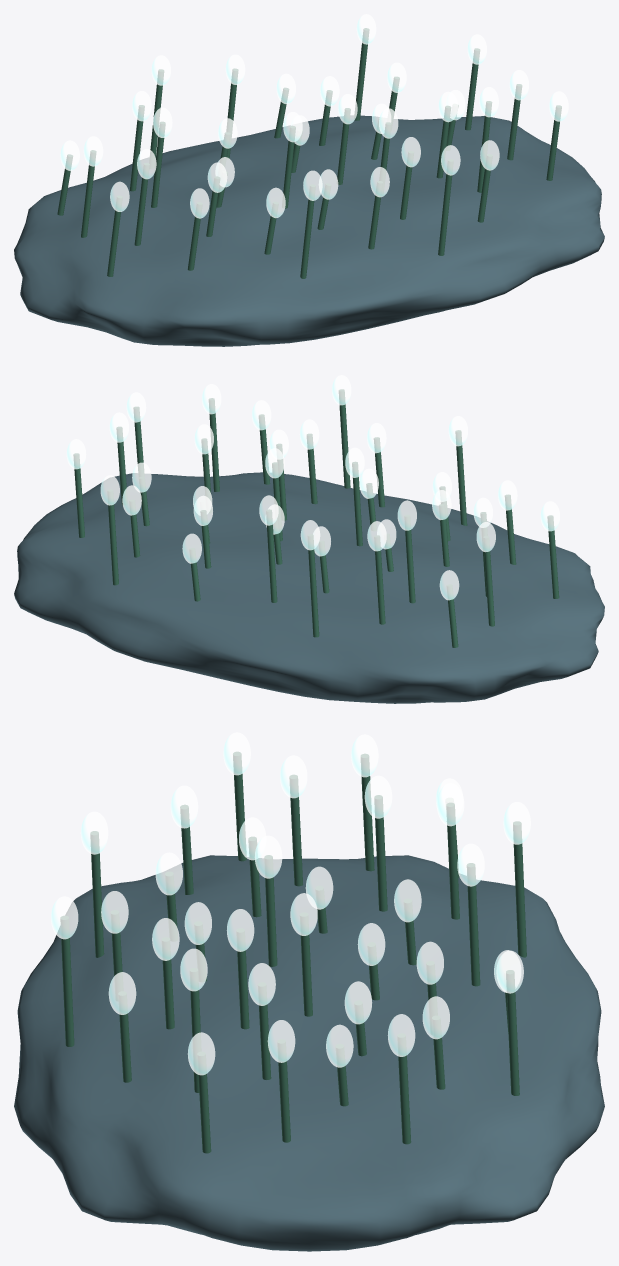
The picture shows the model from 3 angles, top to bottom: view 1: azimuth 30°, elevation 25°; view 2: azimuth 150°, elevation 25°; view 3: azimuth 270°, elevation 25°; orthographic projection. The views are drawn at different scales.
Parts seen in each view (by area): view 1: stone-9, luminous-stem-32, luminous-stem-28, luminous-stem-27, luminous-stem-31, luminous-stem-25, luminous-stem-20, luminous-stem-12, luminous-stem-16, luminous-stem-17, luminous-stem-26, luminous-stem-1 (+40 smaller); view 2: stone-9, luminous-stem-28, luminous-stem-32, luminous-stem-31, luminous-stem-27, luminous-stem-15, luminous-stem-16, luminous-stem-25, luminous-stem-20, luminous-stem-12, luminous-stem-1, luminous-stem-26 (+39 smaller); view 3: stone-9, luminous-stem-28, luminous-stem-32, luminous-stem-31, luminous-stem-27, luminous-stem-15, luminous-stem-25, luminous-stem-12, luminous-stem-20, luminous-stem-1, luminous-stem-17, luminous-stem-26 (+46 smaller).
Boxes of the visible parts, x1,y1,x2,y2 form: stone-9: [14, 115, 604, 346]; luminous-stem-32: [438, 159, 453, 255]; luminous-stem-28: [149, 69, 163, 168]; luminous-stem-27: [300, 184, 315, 278]; luminous-stem-31: [354, 28, 368, 120]; luminous-stem-25: [81, 150, 95, 237]; luminous-stem-20: [129, 105, 144, 191]; luminous-stem-12: [151, 122, 165, 207]; luminous-stem-16: [477, 101, 491, 192]; luminous-stem-17: [134, 163, 149, 245]; luminous-stem-26: [465, 48, 479, 130]; luminous-stem-1: [282, 126, 295, 208]; stone-9: [14, 472, 604, 703]; luminous-stem-28: [307, 534, 319, 637]; luminous-stem-32: [339, 389, 350, 488]; luminous-stem-31: [107, 489, 118, 585]; luminous-stem-27: [455, 430, 467, 525]; luminous-stem-15: [266, 509, 277, 602]; luminous-stem-16: [209, 398, 219, 491]; luminous-stem-25: [483, 536, 494, 626]; luminous-stem-20: [374, 535, 385, 624]; luminous-stem-12: [404, 515, 415, 603]; luminous-stem-1: [352, 462, 362, 546]; luminous-stem-26: [73, 453, 84, 537]; stone-9: [14, 855, 604, 1251]; luminous-stem-28: [513, 821, 526, 957]; luminous-stem-32: [60, 916, 74, 1046]; luminous-stem-31: [506, 970, 519, 1095]; luminous-stem-27: [90, 831, 104, 957]; luminous-stem-15: [467, 863, 480, 986]; luminous-stem-25: [361, 754, 374, 871]; luminous-stem-12: [374, 795, 387, 911]; luminous-stem-20: [446, 803, 459, 919]; luminous-stem-1: [264, 855, 277, 966]; luminous-stem-17: [289, 775, 302, 886]; luminous-stem-26: [397, 1033, 411, 1144].
Bounding box in the file's own units: 2.46 × 0.7905 × 1.63.
